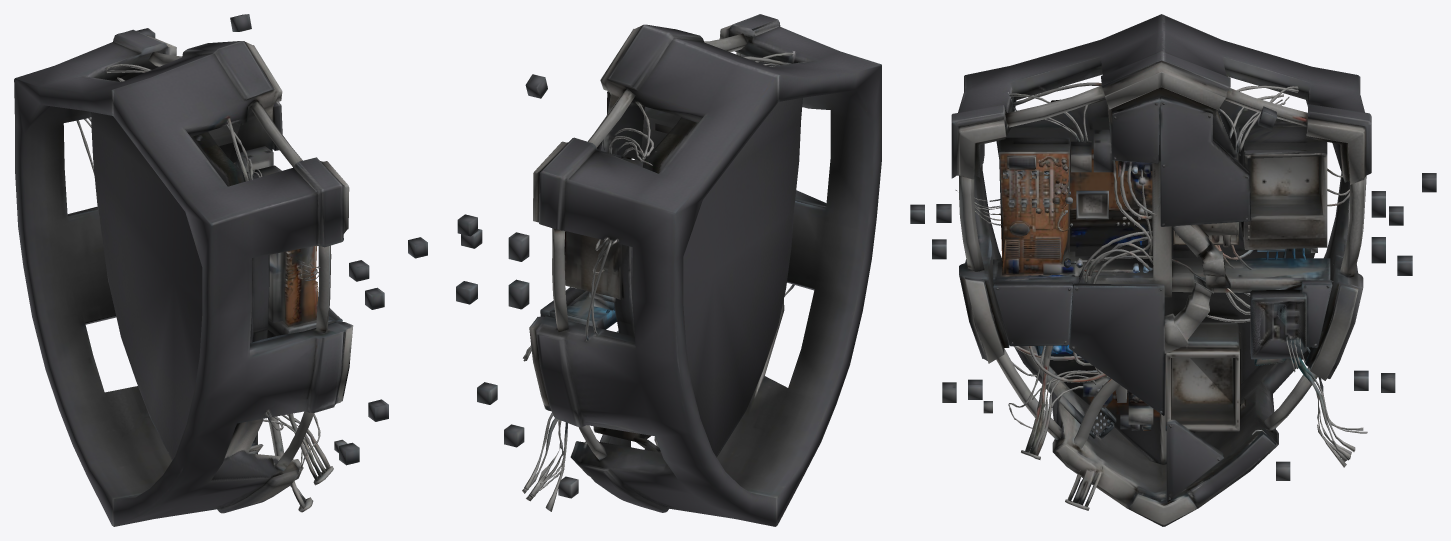
The picture shows the model from 3 angles, left to right: view 1: azimuth 30°, elevation 25°; view 2: azimuth 150°, elevation 25°; view 3: azimuth 270°, elevation 25°; orthographic projection. The views are drawn at different scales.
Visible parts, largest first — view 1: tripo_node_25e2ae39-ea88-4d22-8d91-a5fc8587b28b; view 2: tripo_node_25e2ae39-ea88-4d22-8d91-a5fc8587b28b; view 3: tripo_node_25e2ae39-ea88-4d22-8d91-a5fc8587b28b.
Part boxes in pixels (left/top/right/bottom): tripo_node_25e2ae39-ea88-4d22-8d91-a5fc8587b28b: left=14, top=14, right=427, bottom=526; tripo_node_25e2ae39-ea88-4d22-8d91-a5fc8587b28b: left=456, top=14, right=881, bottom=526; tripo_node_25e2ae39-ea88-4d22-8d91-a5fc8587b28b: left=910, top=14, right=1436, bottom=526.
Size of the model in its own units: 0.4121 by 0.9746 by 0.998.
Materials: 1 (1 with a texture image).
